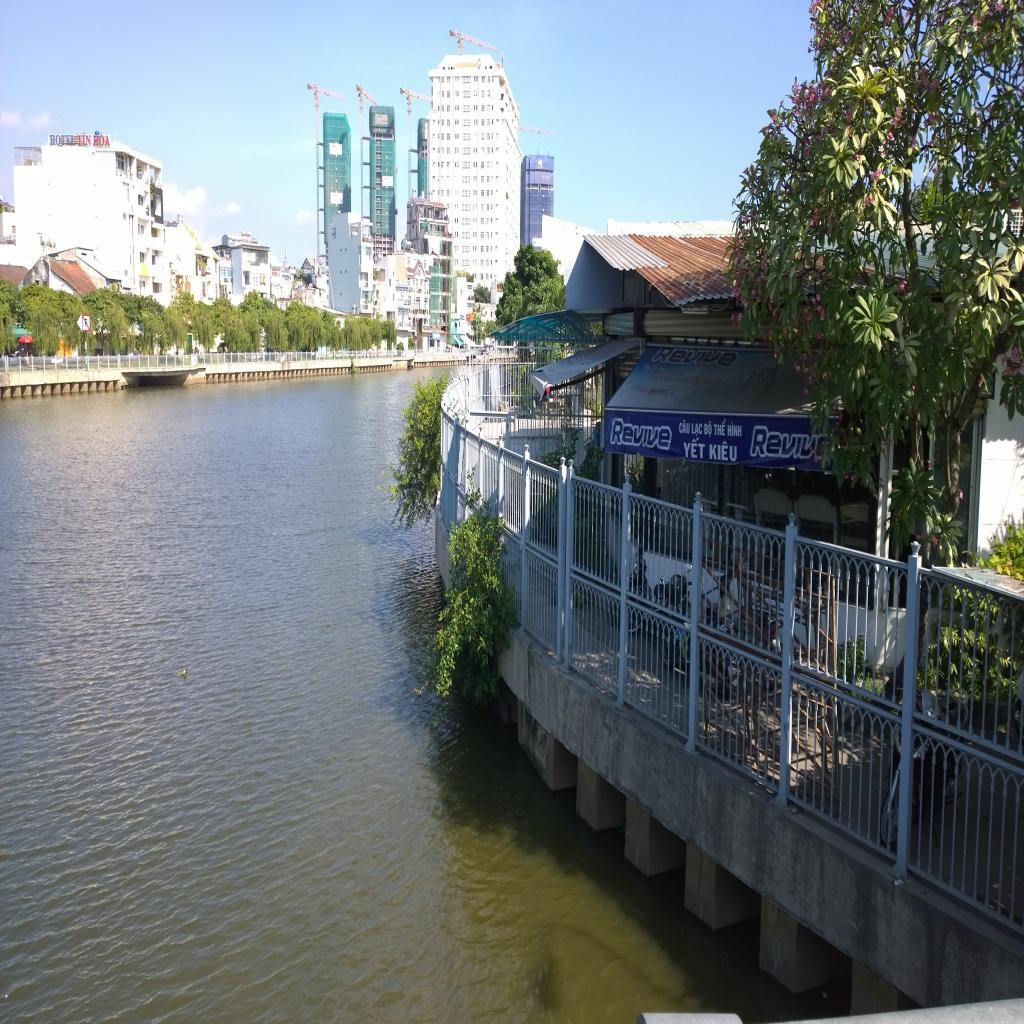text: (608, 412, 675, 456), (649, 346, 742, 372), (708, 439, 740, 463), (682, 437, 707, 462), (49, 133, 77, 147), (649, 371, 675, 386), (700, 374, 728, 387), (656, 364, 686, 376), (726, 418, 743, 439), (714, 416, 728, 439), (92, 132, 111, 148), (674, 375, 701, 384), (702, 418, 713, 440), (678, 418, 690, 436), (77, 132, 91, 146), (691, 422, 703, 438), (644, 361, 658, 372), (83, 317, 88, 328)
